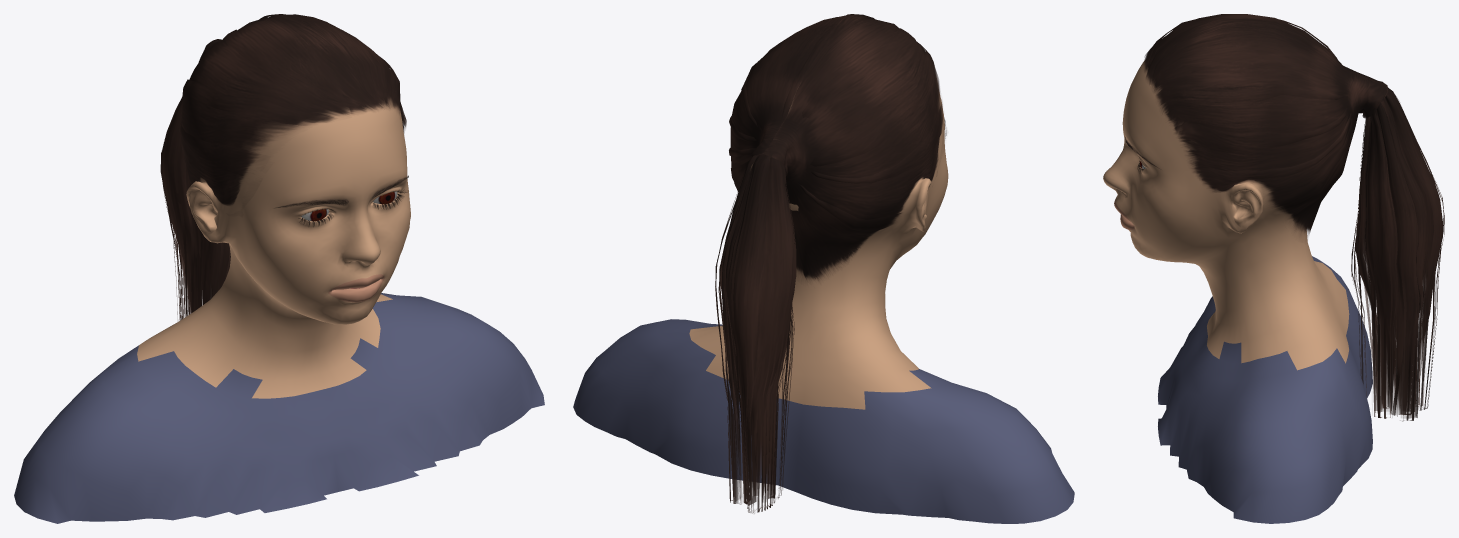
File: woman-04.glb
3 views of the same model, side by side, from view 1: azimuth 30°, elevation 25°; view 2: azimuth 150°, elevation 25°; view 3: azimuth 270°, elevation 25° (orthographic). The views are drawn at different scales.
Parts seen in each view (by area): view 1: mpfb-face, mpfb-face.ponytail01; view 2: mpfb-face, mpfb-face.ponytail01; view 3: mpfb-face, mpfb-face.ponytail01.
Part boxes in pixels (x1,y1,x2,y2): mpfb-face: (14,98,544,523); mpfb-face.ponytail01: (160,14,406,320); mpfb-face: (573,78,1074,523); mpfb-face.ponytail01: (715,14,943,513); mpfb-face: (1103,60,1372,523); mpfb-face.ponytail01: (1143,14,1444,421).
Bounding box in the file's own units: 0.414 × 0.3369 × 0.2662.
Materials: 9 (6 with a texture image).
